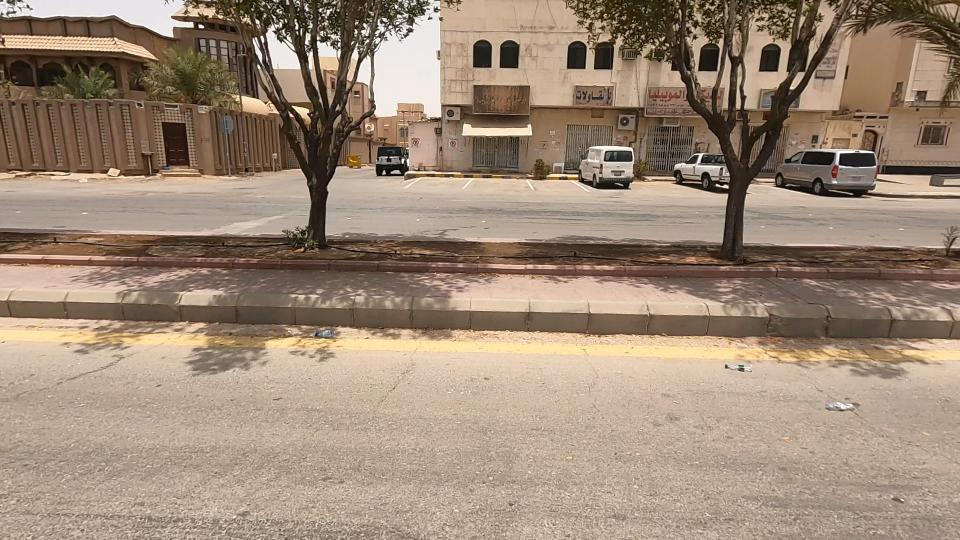BAD_BILLBOARD: (438, 68, 556, 133)
CLUTTER_SIDEWALK: (247, 203, 832, 316), (0, 202, 317, 289)
GARBAGE: (785, 377, 885, 433), (699, 351, 776, 383)
